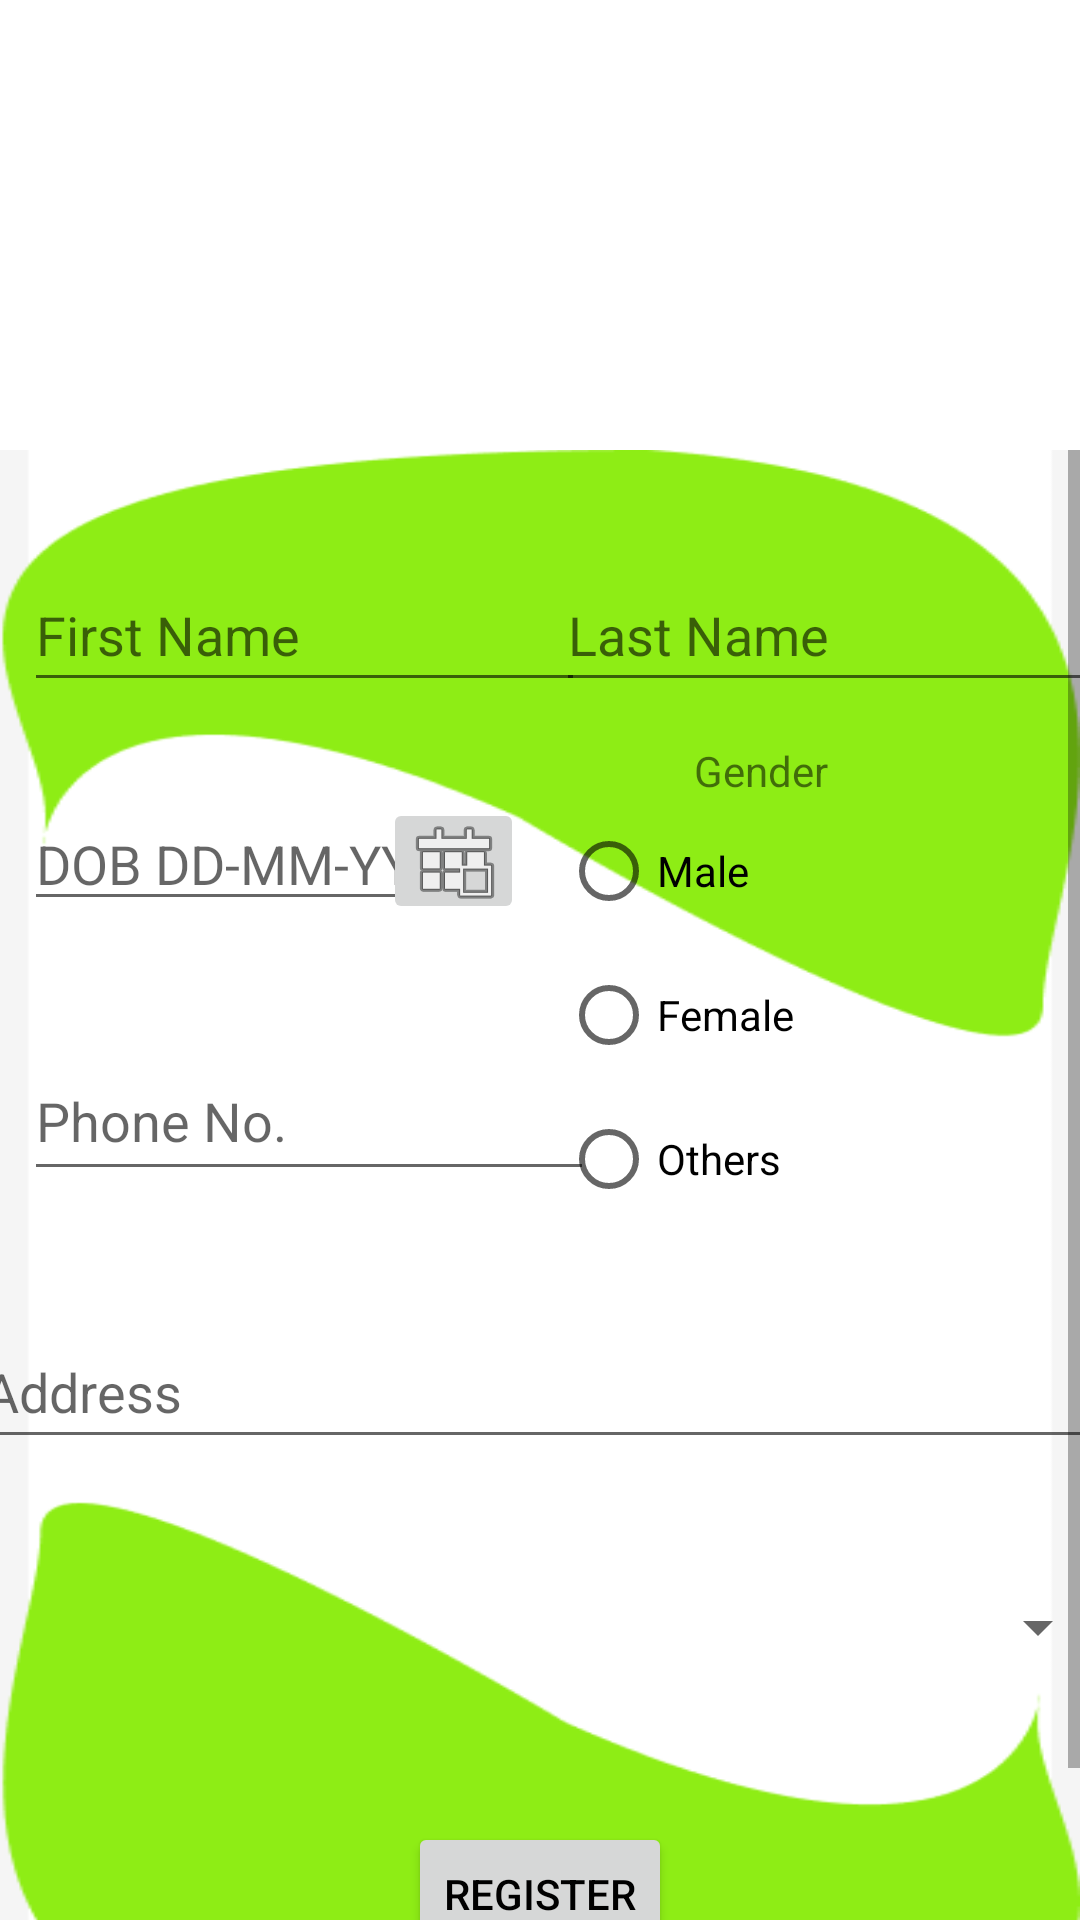

Named icons in this screenshot (1080*1920) and their centers, (x=x, y=y):
today: (x=453, y=852)
